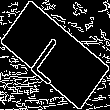L_NE: (30, 25, 80, 85)
